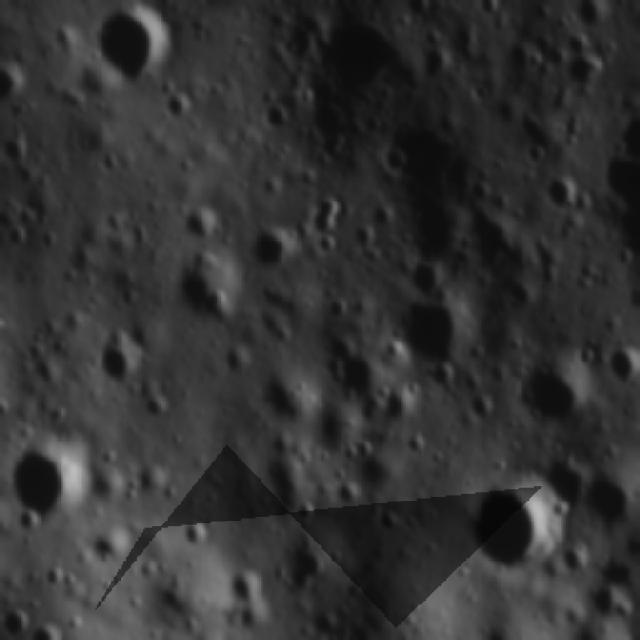crater: (466, 462, 580, 586), (0, 430, 97, 530), (87, 0, 181, 92), (505, 347, 597, 431), (392, 290, 486, 372), (172, 253, 242, 333), (317, 334, 383, 406), (89, 322, 154, 392), (575, 471, 640, 538), (371, 369, 437, 434), (277, 536, 337, 590), (533, 169, 587, 222), (251, 224, 306, 276), (221, 562, 274, 612), (603, 333, 640, 389), (568, 611, 637, 640), (0, 52, 28, 120), (462, 617, 540, 640), (0, 604, 41, 640), (28, 620, 69, 640), (382, 637, 432, 640)
